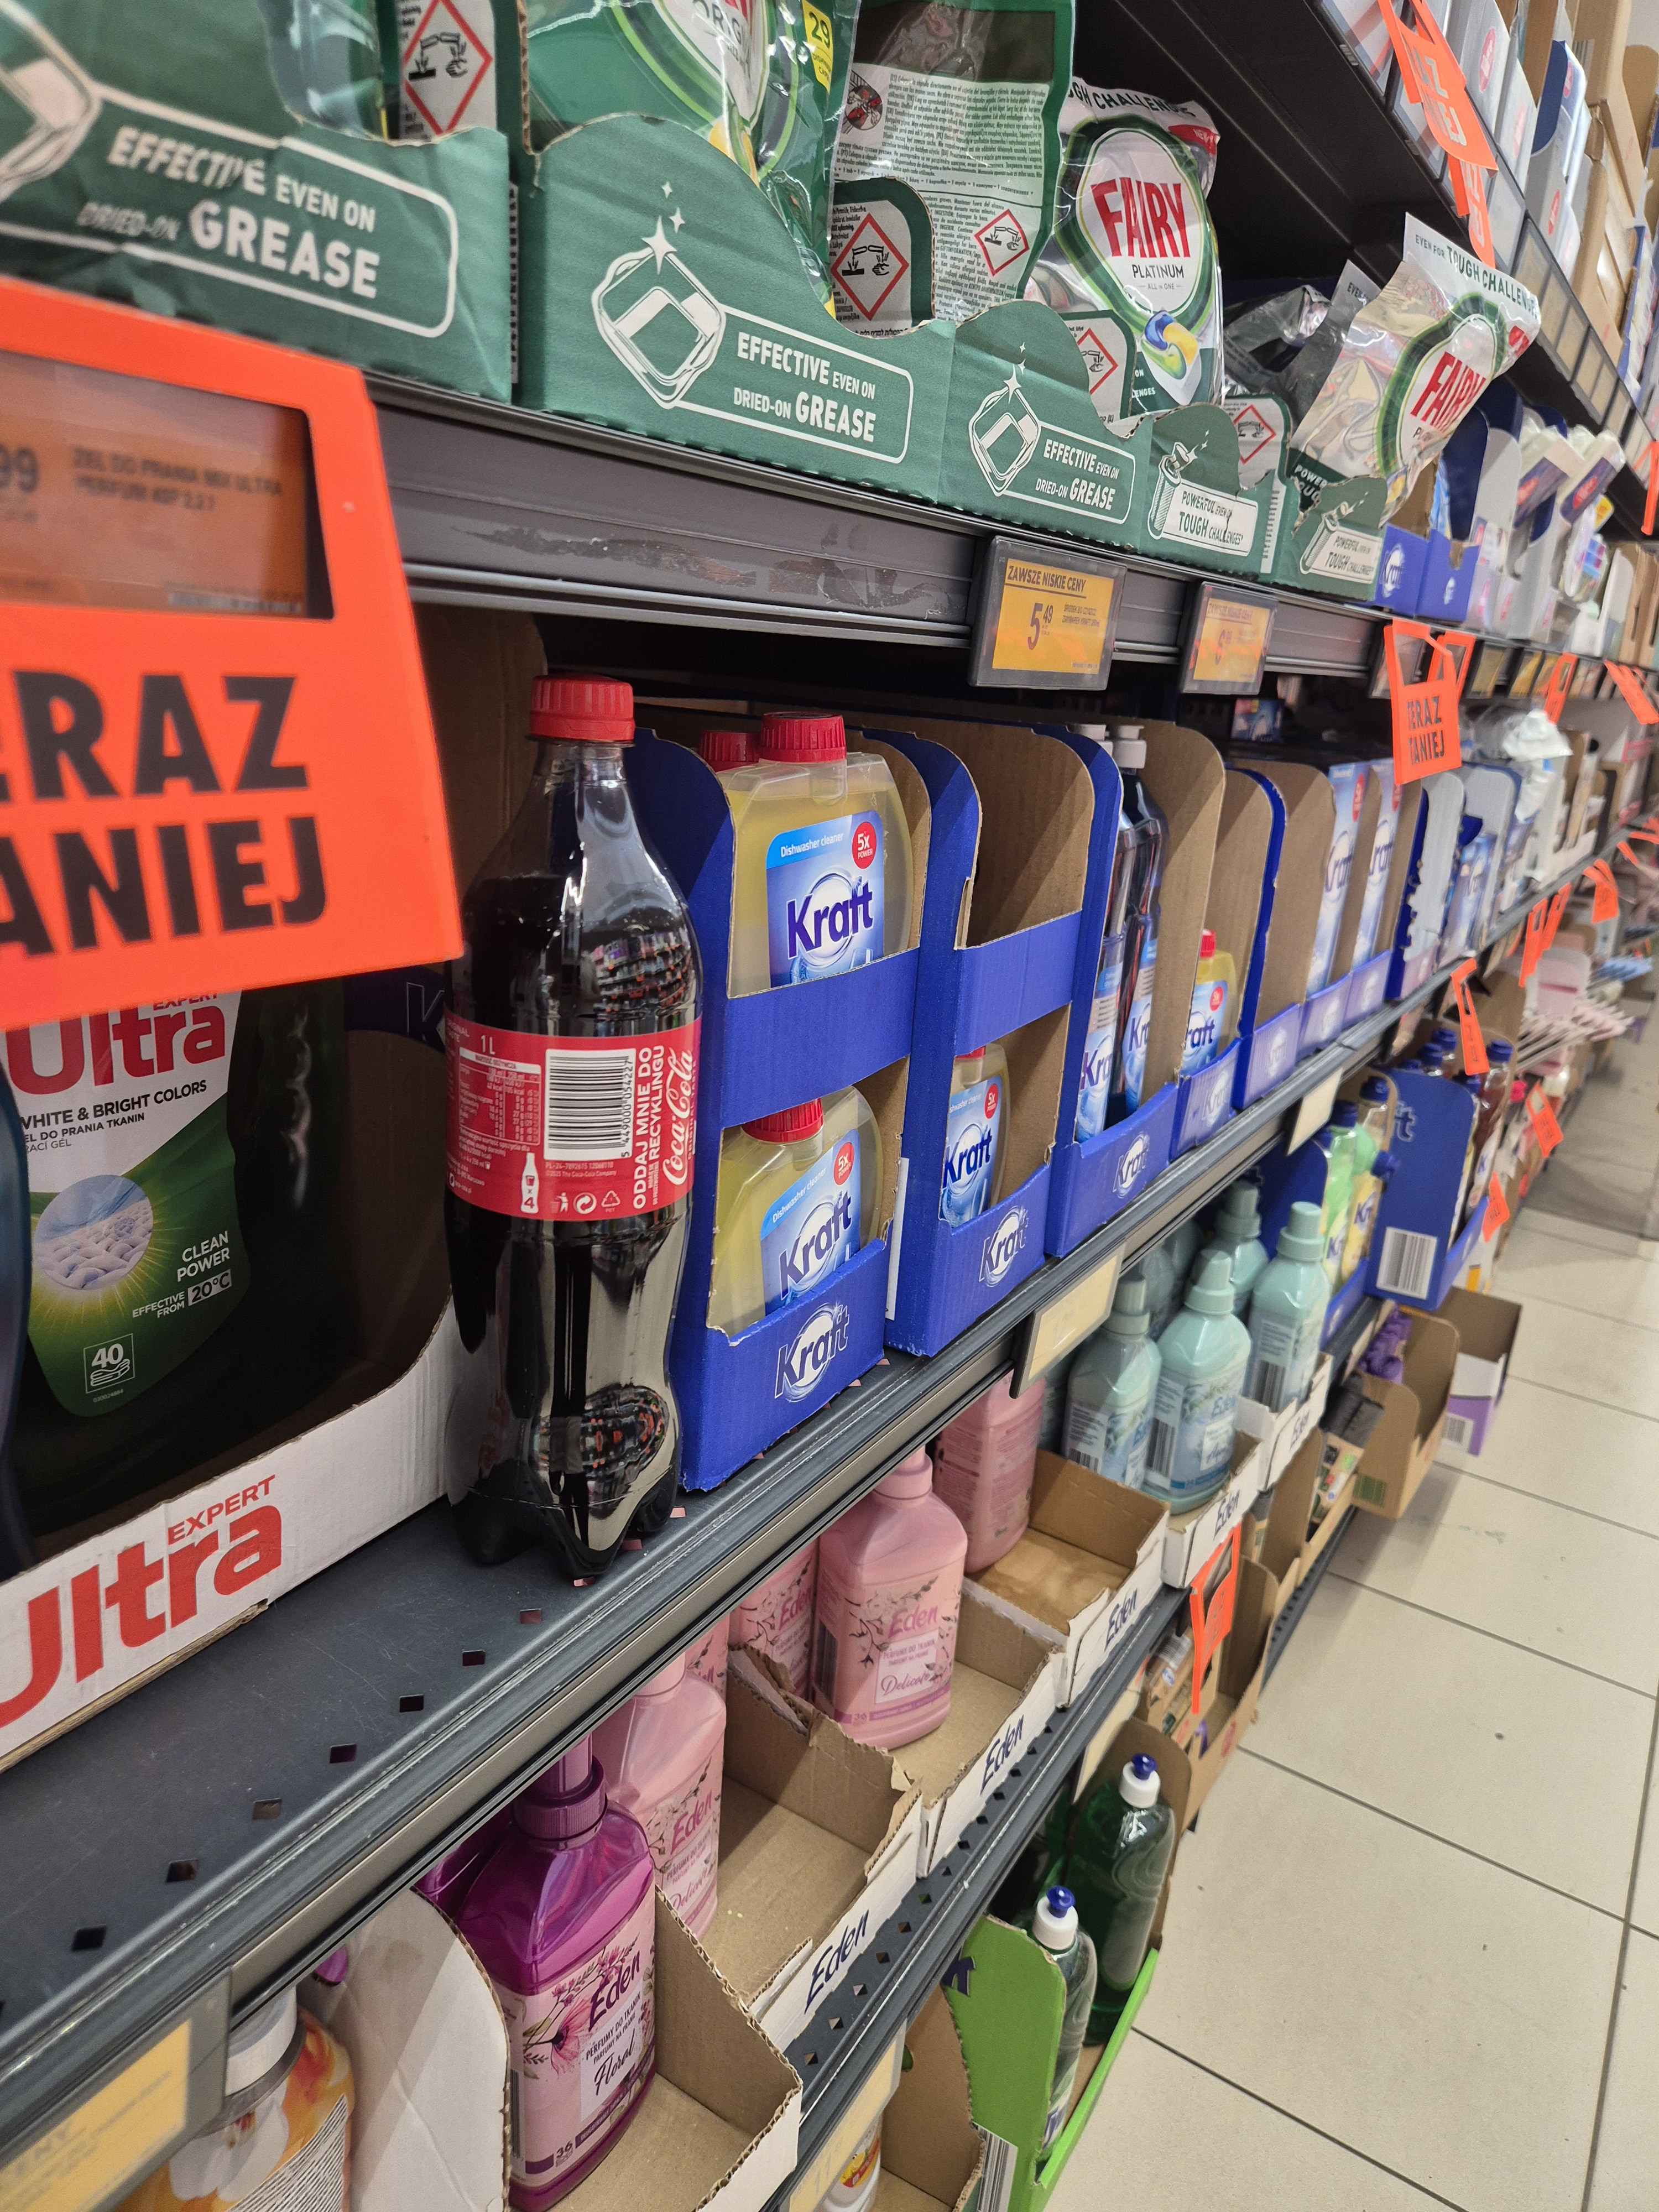Coca Cola: (455, 672, 701, 1554)
